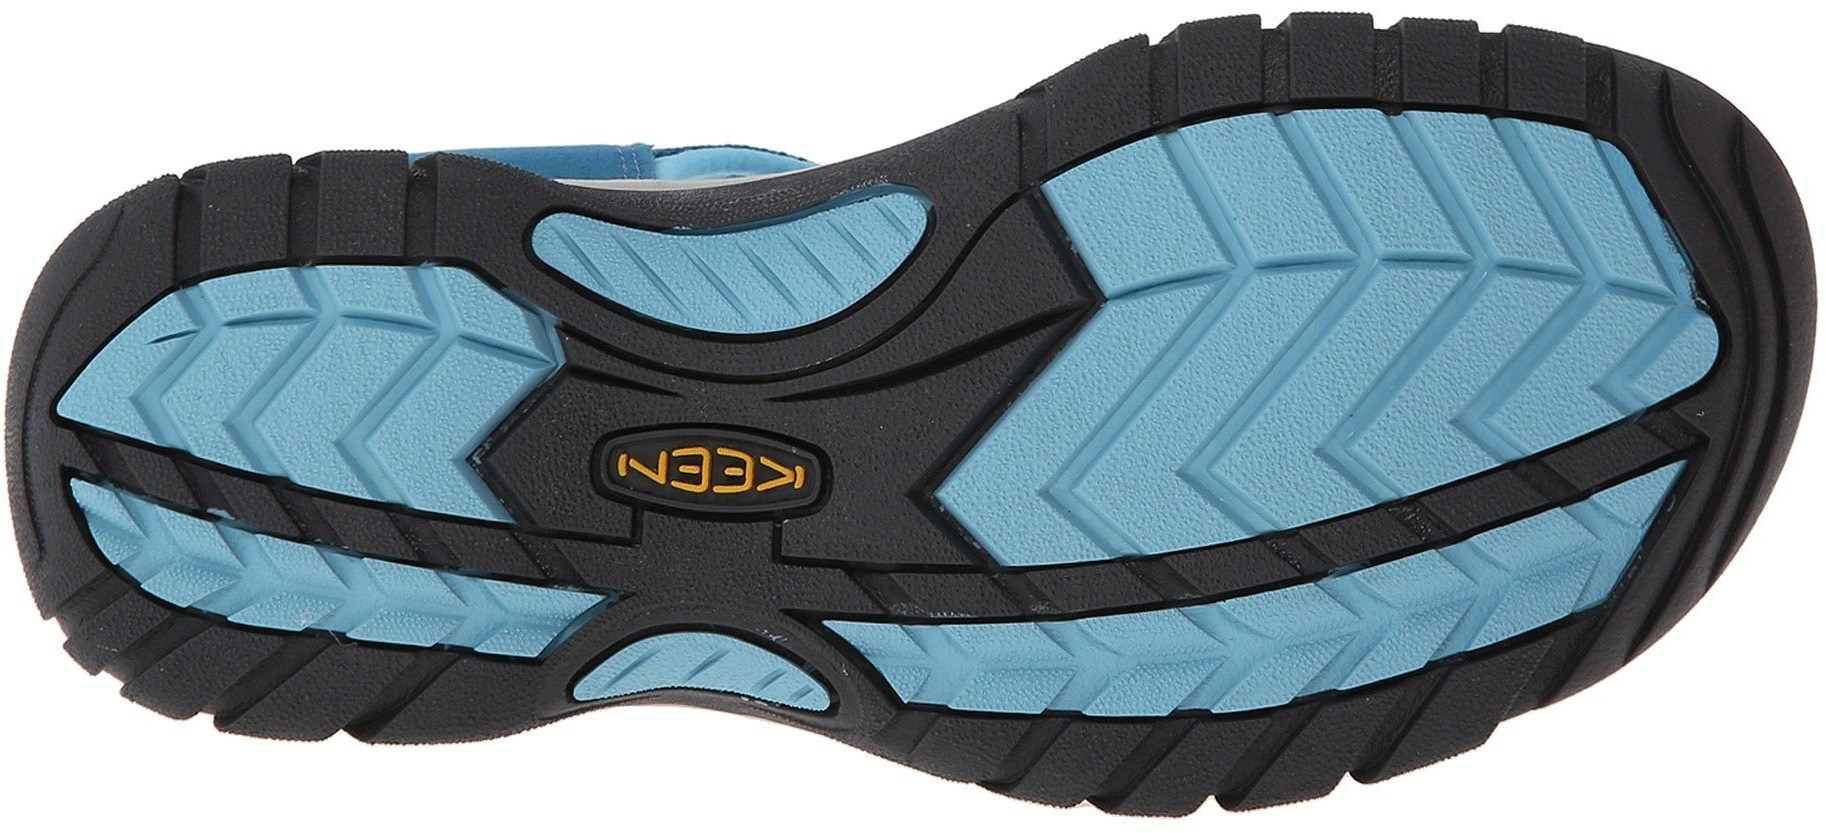chevron: (1096, 541, 1354, 778), (243, 323, 465, 520), (239, 504, 454, 700), (1105, 322, 1303, 525), (899, 375, 1088, 569), (1321, 306, 1510, 480), (123, 344, 233, 453)
quad: (1280, 1, 1552, 271), (1027, 85, 1260, 312)
text: (606, 416, 723, 525), (732, 432, 804, 513)
